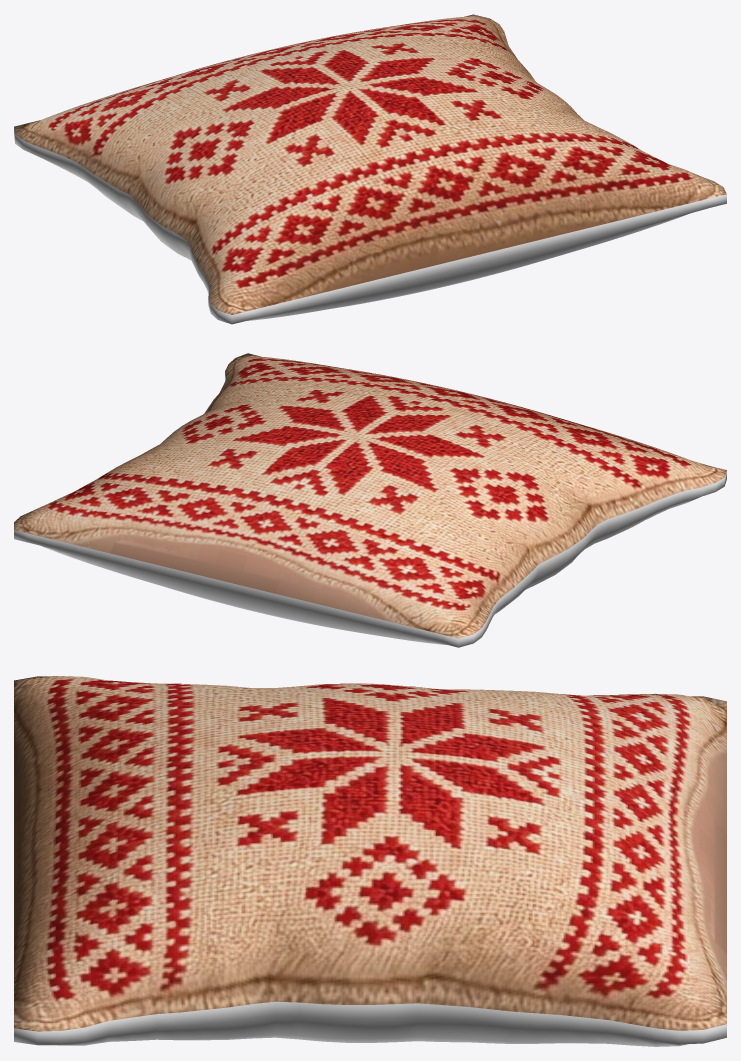
Rendered from embroidered-cushion.glb.
The picture shows the model from 3 angles, top to bottom: view 1: azimuth 30°, elevation 25°; view 2: azimuth 150°, elevation 25°; view 3: azimuth 270°, elevation 25°; orthographic projection. The views are drawn at different scales.
Parts seen in each view (by area): view 1: Embroidered linen cushion; view 2: Embroidered linen cushion; view 3: Embroidered linen cushion.
Boxes of the visible parts, <box> form: Embroidered linen cushion: <box>14,14,726,324</box>; Embroidered linen cushion: <box>14,353,726,647</box>; Embroidered linen cushion: <box>14,676,726,1046</box>.
Bounding box in the file's own units: 0.3361 × 0.096 × 0.285.
Materials: 2 (1 with a texture image).
